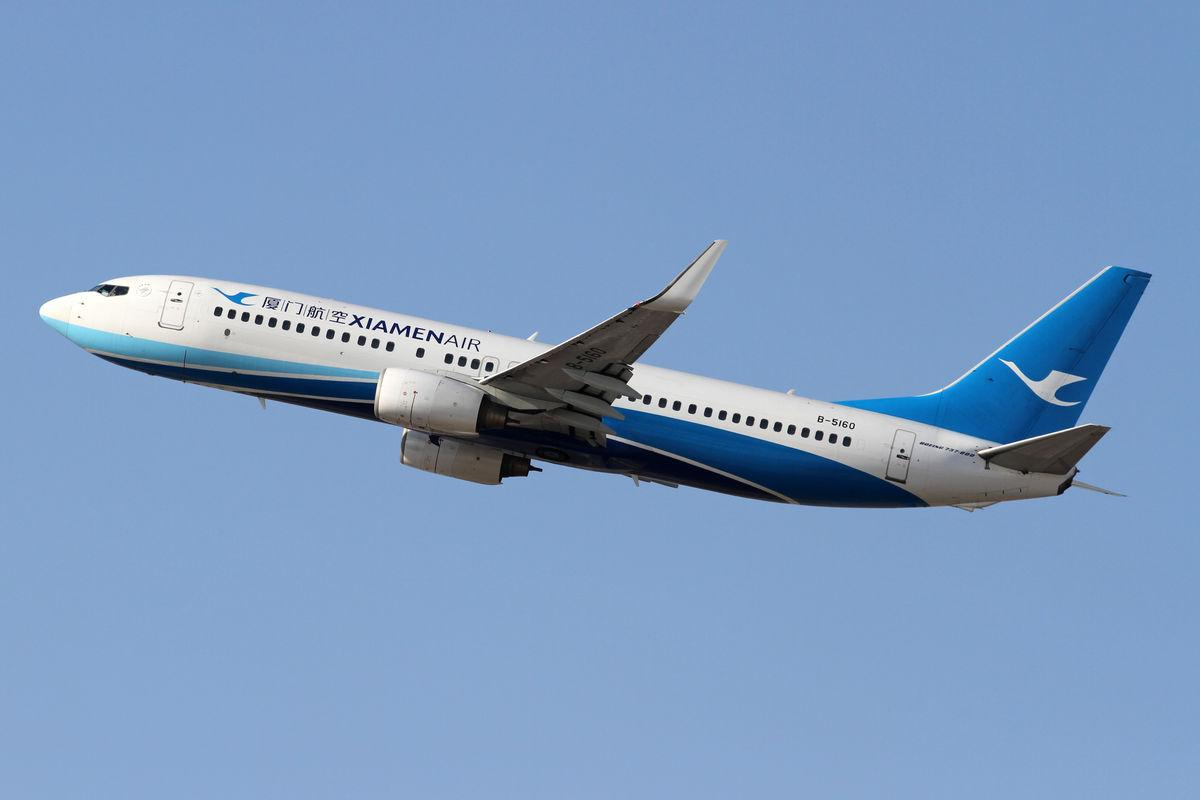airplane: (31, 238, 1144, 516)
